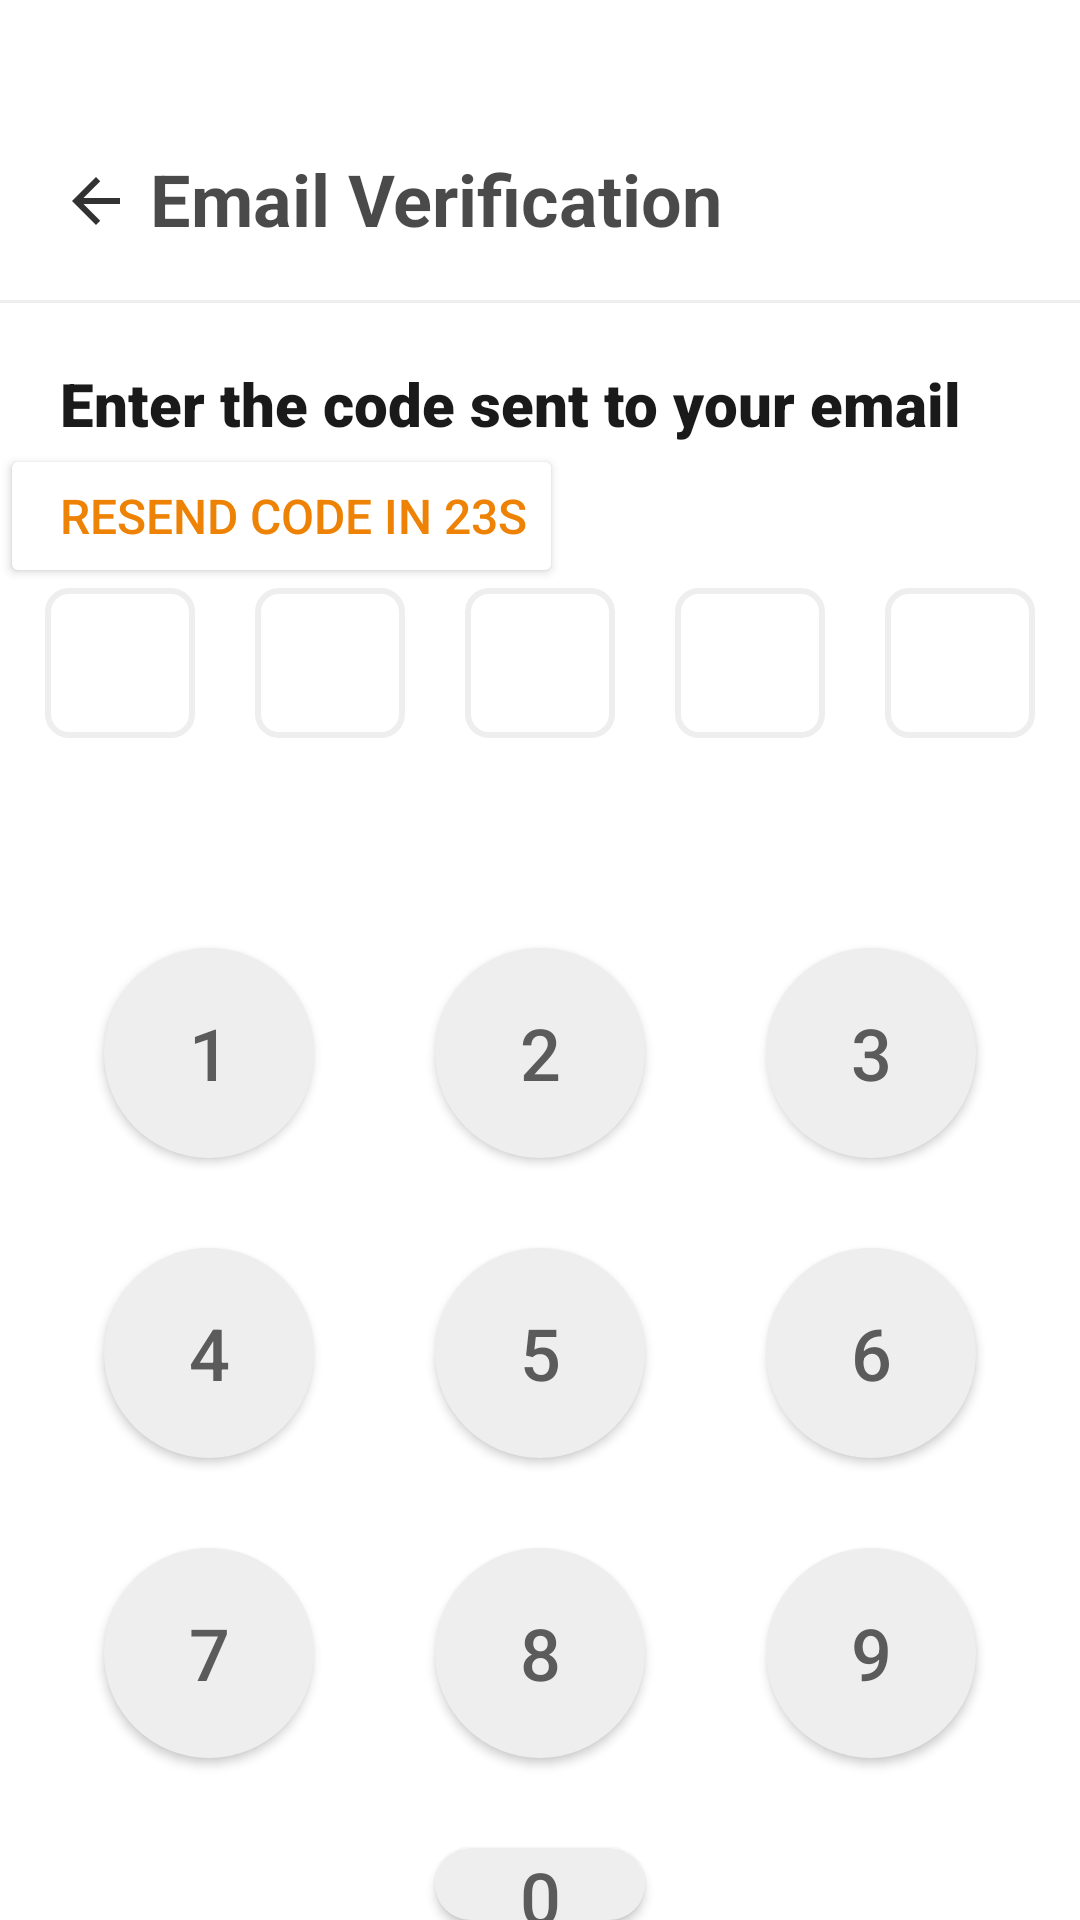

Icons on this 1080x1920 Android screen, each with the point to tap as (x,y):
arrow: (96,201)
